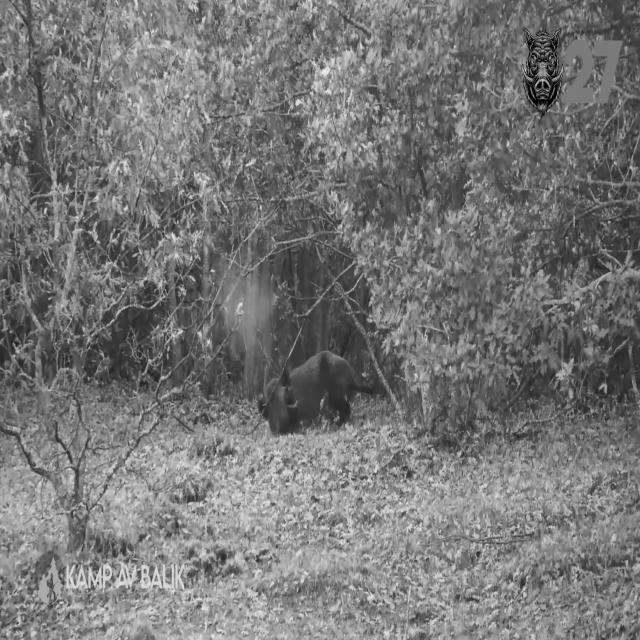boar: (258, 350, 354, 432)
